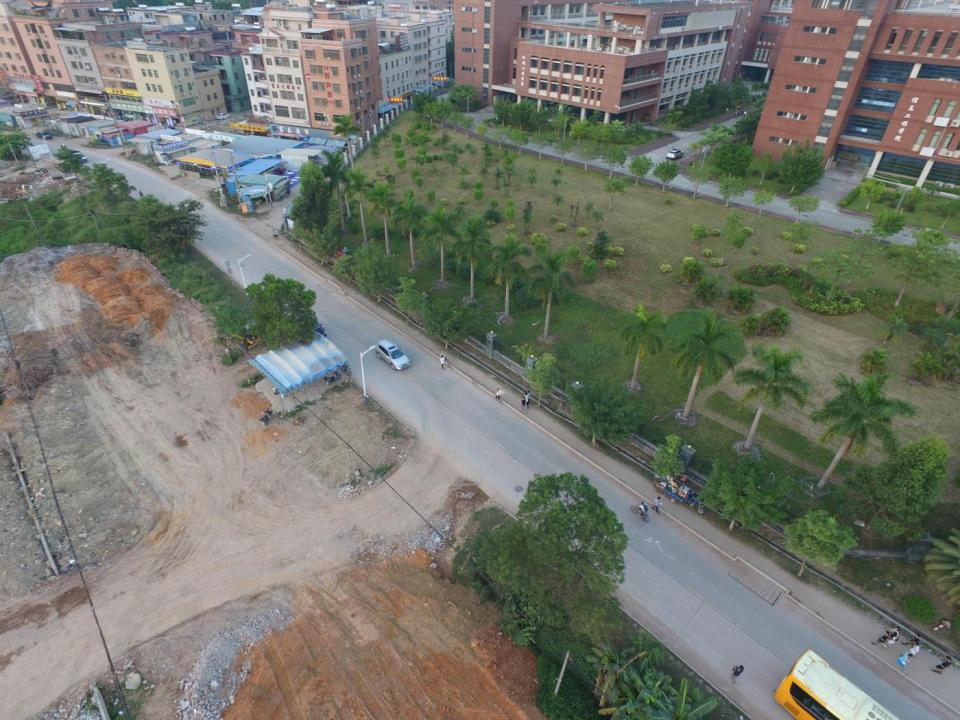bus: (772, 648, 944, 719)
car: (290, 310, 327, 341), (376, 338, 411, 369), (666, 149, 684, 160), (215, 112, 231, 121), (36, 131, 53, 138)
truck: (664, 482, 705, 515), (62, 148, 87, 164)
